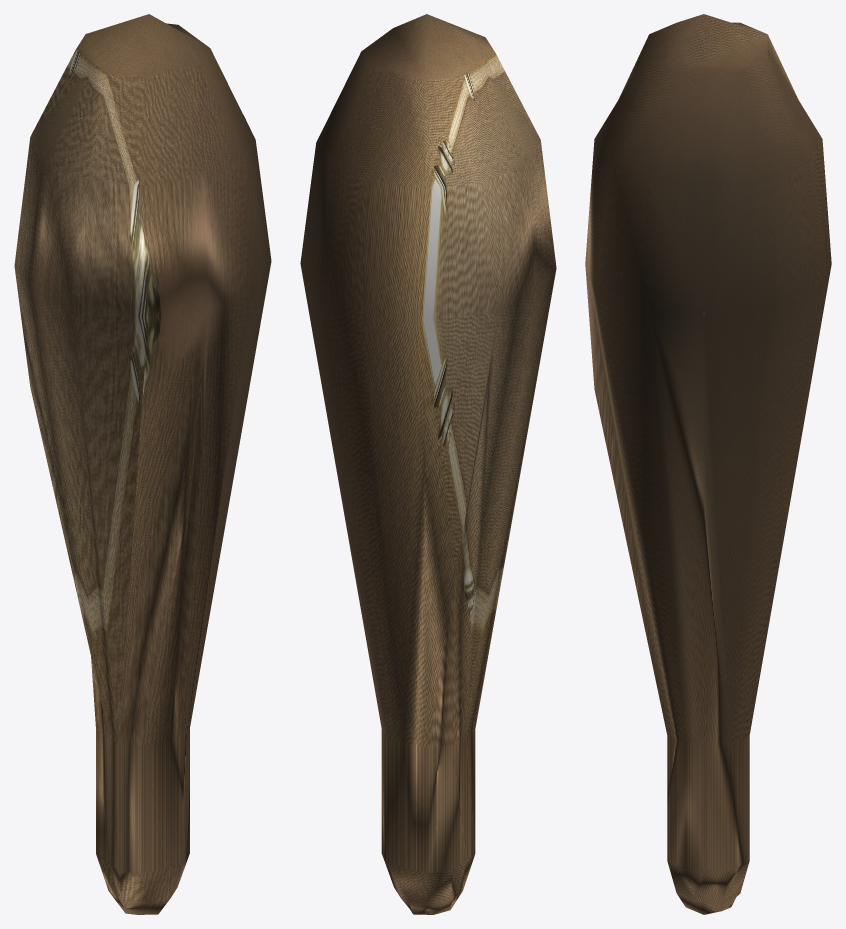
File: lamp_11_21__09_15_34_textured.obj
The picture shows the model from 3 angles, left to right: view 1: azimuth 30°, elevation 25°; view 2: azimuth 150°, elevation 25°; view 3: azimuth 270°, elevation 25°; orthographic projection.
Size of the model in its own units: 0.4 by 1.6 by 0.4.
Materials: 1 (1 with a texture image).
